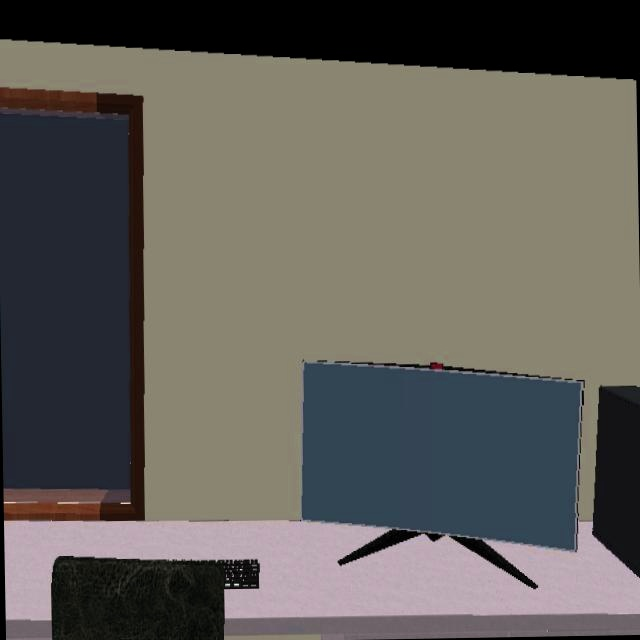monitor: (302, 363, 582, 587)
table: (3, 520, 640, 640)
